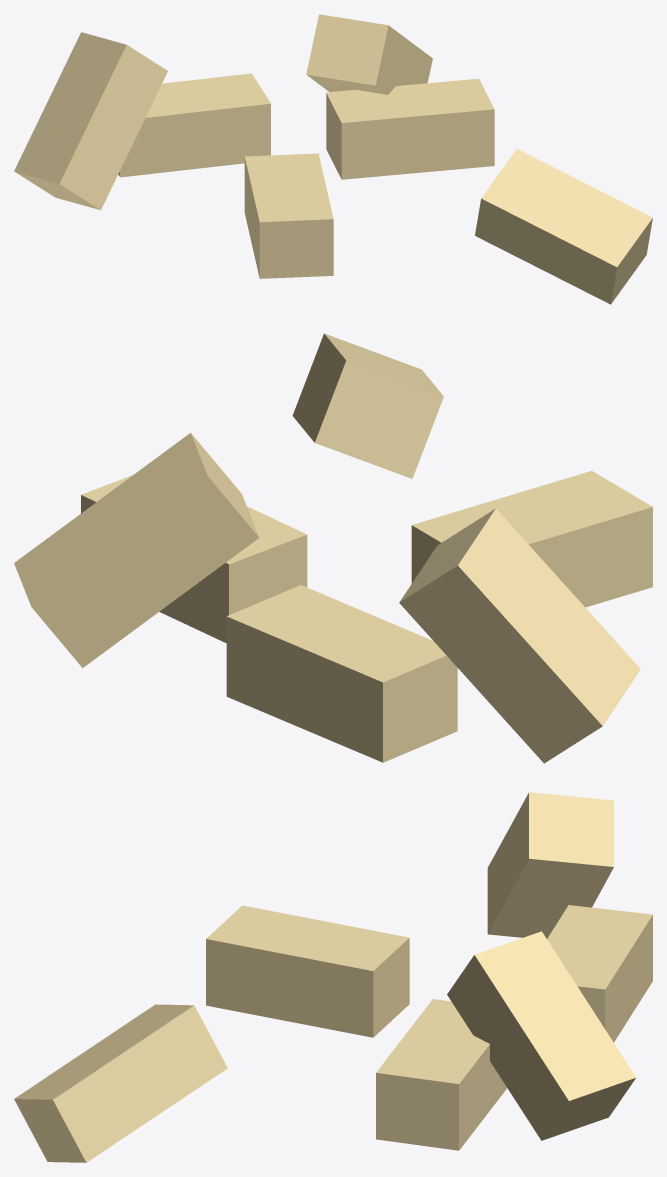
The picture shows the model from 3 angles, top to bottom: view 1: azimuth 30°, elevation 25°; view 2: azimuth 150°, elevation 25°; view 3: azimuth 270°, elevation 25°; orthographic projection. The views are drawn at different scales.
Visible parts, largest first — view 1: Object22; view 2: Object22; view 3: Object22.
Part boxes in pixels (x1,y1,x2,y2): Object22: (14,14,652,304); Object22: (14,333,652,763); Object22: (14,792,652,1162).
Size of the model in its own units: 92.7 by 37.08 by 102.
